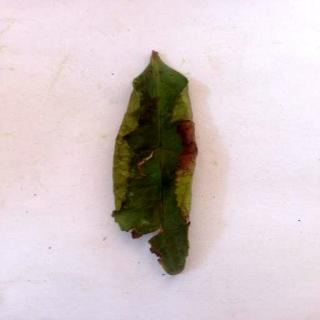Brown Blight: (113, 52, 201, 278)
